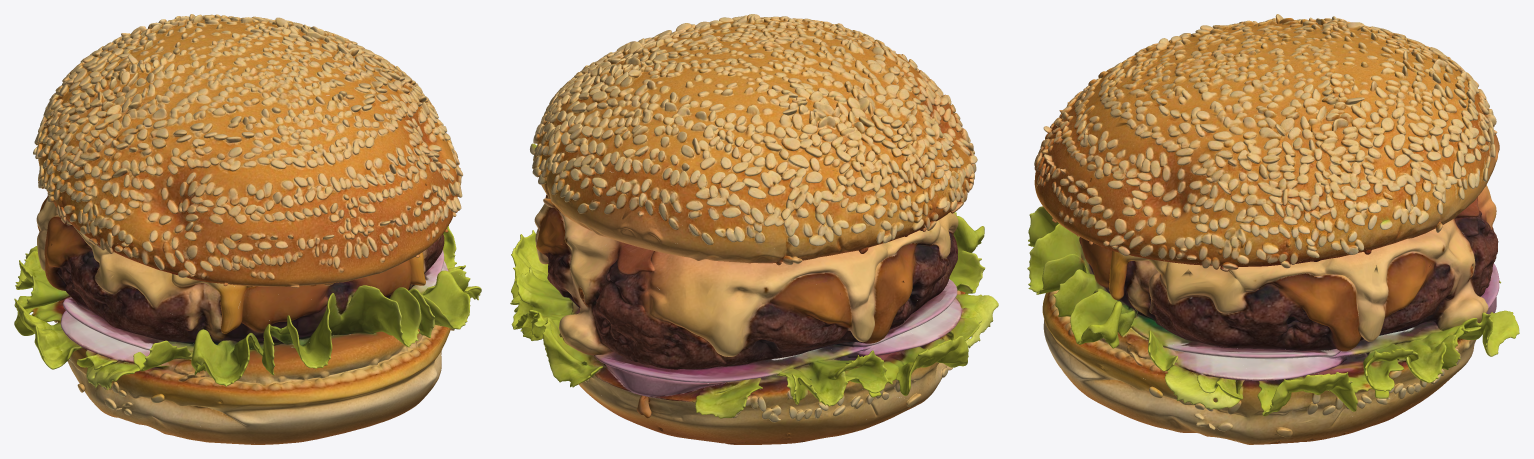
The model's file is Advance burger.glb.
3 renders of one model, left to right at view 1: azimuth 30°, elevation 25°; view 2: azimuth 150°, elevation 25°; view 3: azimuth 270°, elevation 25°, orthographic. The views are drawn at different scales.
Visible parts, largest first — view 1: tripo_node_ad3879c6-1418-4d49-a57b-74c0cc03d141; view 2: tripo_node_ad3879c6-1418-4d49-a57b-74c0cc03d141; view 3: tripo_node_ad3879c6-1418-4d49-a57b-74c0cc03d141.
Boxes of the visible parts, x1,y1,x2,y2 form: tripo_node_ad3879c6-1418-4d49-a57b-74c0cc03d141: (14, 14, 481, 444); tripo_node_ad3879c6-1418-4d49-a57b-74c0cc03d141: (510, 14, 998, 444); tripo_node_ad3879c6-1418-4d49-a57b-74c0cc03d141: (1027, 14, 1519, 444).
Bounding box in the file's own units: 0.9999 × 0.7335 × 0.9985.
1 material, 1 textured.
